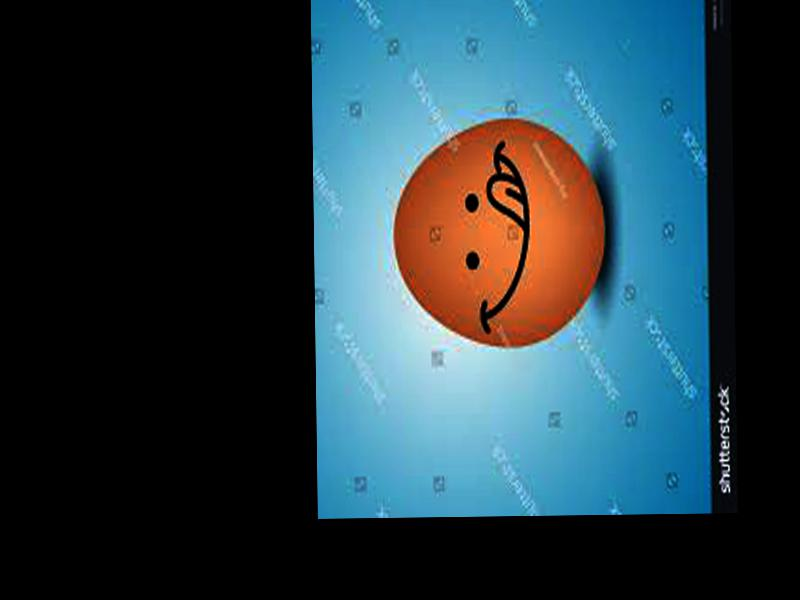Eggs: (392, 117, 607, 349)
